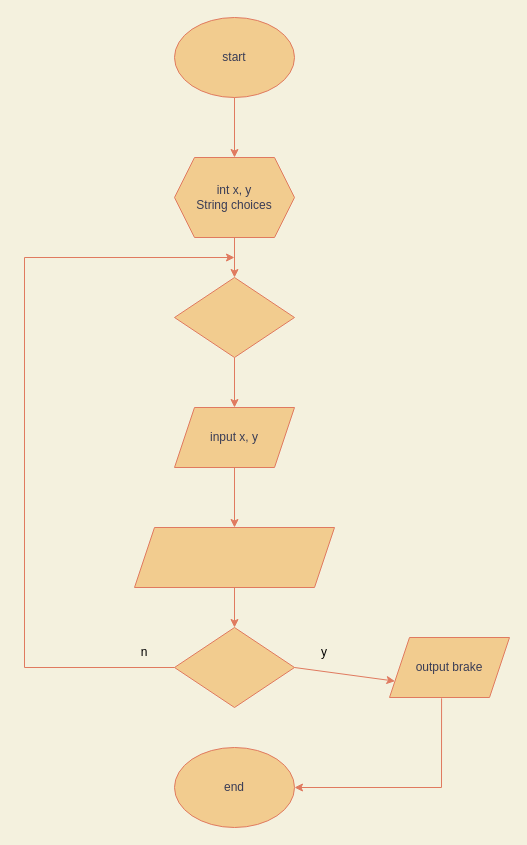
This 527x845 diagram has some shape labels left out. The shapes that lost their labels are listed below. From the top down, each one's box as (x1, y1, x2, y2) in pixels, then its label:
(174, 276, 294, 358): true
(134, 526, 334, 588): output print(Math.pow(x, y))
(174, 626, 294, 708): if choices == "n"
